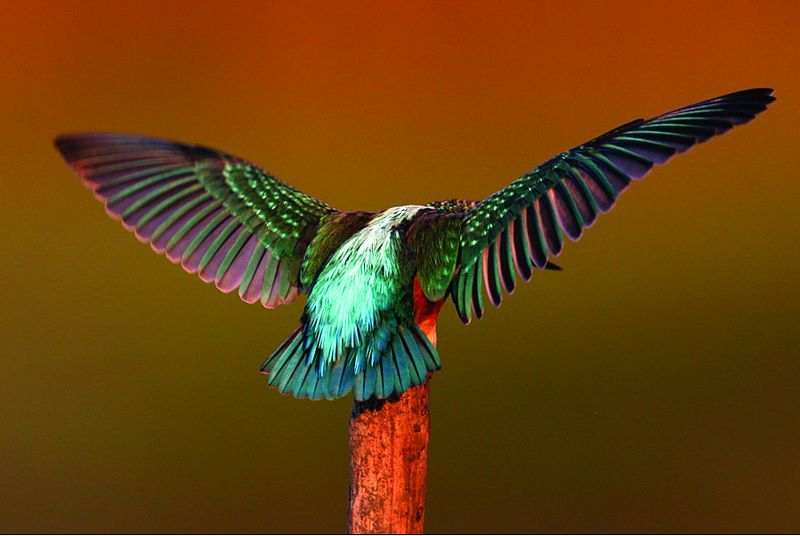bird: (39, 115, 800, 407)
